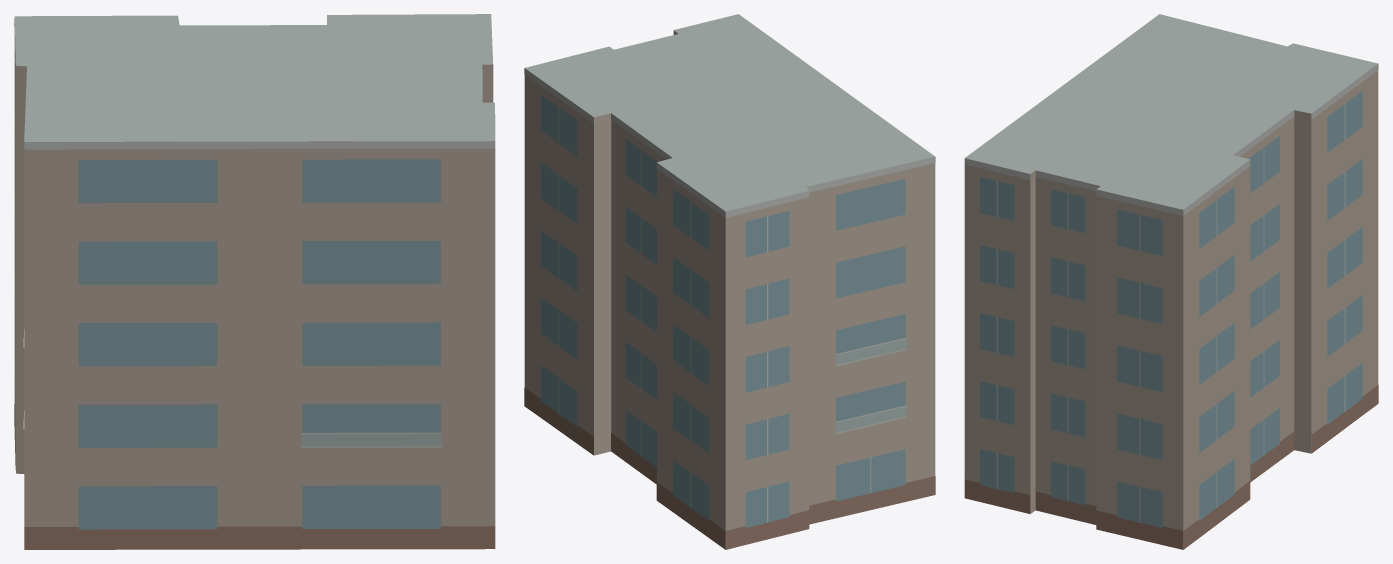
File: survey-upis-33013624.glb
3 views of the same model, side by side, from view 1: azimuth 30°, elevation 25°; view 2: azimuth 150°, elevation 25°; view 3: azimuth 270°, elevation 25° (orthographic). The views are drawn at different scales.
Parts seen in each view (by area): view 1: survey-upis-33013624.tmp; view 2: survey-upis-33013624.tmp; view 3: survey-upis-33013624.tmp.
Boxes of the visible parts, x1,y1,x2,y2 form: survey-upis-33013624.tmp: (14,14,495,549); survey-upis-33013624.tmp: (524,14,935,549); survey-upis-33013624.tmp: (964,14,1378,549).
Bounding box in the file's own units: 16.19 × 13.1 × 14.46.
